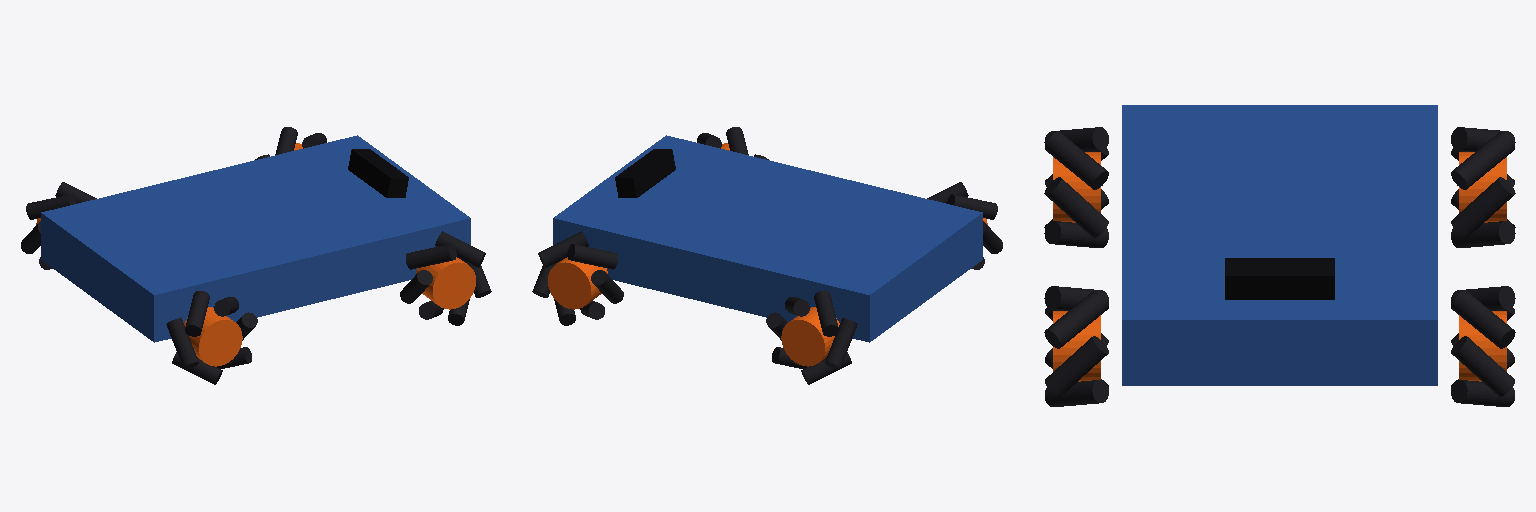
The robot description file, URDF, robot "mecanum_large":
<?xml version="1.0" ?>
<!-- Generated by Robot Studio 1.0.0 from the 'mecanum' template. Software-generated: check masses, dimensions and limits against the real robot. -->
<robot name="mecanum_large">
  <material name="chassis">
    <color rgba="0.2 0.36 0.62 1"/>
  </material>
  <material name="wheel">
    <color rgba="0.15 0.15 0.17 1"/>
  </material>
  <material name="hub">
    <color rgba="0.92 0.42 0.12 1"/>
  </material>
  <material name="caster">
    <color rgba="0.6 0.6 0.62 1"/>
  </material>
  <material name="sensor">
    <color rgba="0.08 0.08 0.09 1"/>
  </material>
  <link name="base_footprint"/>
  <link name="base_link">
    <inertial>
      <origin rpy="0 0 0" xyz="0 0 0.02"/>
      <mass value="3"/>
      <inertia ixx="0.017800000000000003" ixy="0" ixz="0" iyy="0.04499999999999999" iyz="0" izz="0.061"/>
    </inertial>
    <visual>
      <origin rpy="0 0 0" xyz="0 0 0.02"/>
      <geometry>
        <box size="0.42 0.26 0.06"/>
      </geometry>
      <material name="chassis"/>
    </visual>
    <collision>
      <origin rpy="0 0 0" xyz="0 0 0.02"/>
      <geometry>
        <box size="0.42 0.26 0.06"/>
      </geometry>
    </collision>
  </link>
  <joint name="base_joint" type="fixed">
    <parent link="base_footprint"/>
    <child link="base_link"/>
    <origin rpy="0 0 0" xyz="0 0 0.0485"/>
  </joint>
  <link name="front_left_wheel">
    <inertial>
      <origin rpy="0 0 0" xyz="0 0 0"/>
      <mass value="0.15"/>
      <inertia ixx="0.00010820937500000001" ixy="0" ixz="0" iyy="0.00017641875" iyz="0" izz="0.00010820937500000001"/>
    </inertial>
    <visual name="hub">
      <origin rpy="1.5707963267948966 0 0" xyz="0 0 0"/>
      <geometry>
        <cylinder length="0.04" radius="0.0291"/>
      </geometry>
      <material name="hub"/>
    </visual>
    <visual name="roller_0">
      <origin rpy="0.7853981633974483 0 0" xyz="0.0388 0 0"/>
      <geometry>
        <cylinder length="0.0558679893563385" radius="0.0097"/>
      </geometry>
      <material name="wheel"/>
    </visual>
    <visual name="roller_1">
      <origin rpy="0.7853981633974483 -1.0471975511965976 0" xyz="0.019400000000000004 0 0.03360178566683622"/>
      <geometry>
        <cylinder length="0.0558679893563385" radius="0.0097"/>
      </geometry>
      <material name="wheel"/>
    </visual>
    <visual name="roller_2">
      <origin rpy="0.7853981633974483 -2.0943951023931953 0" xyz="-0.019399999999999994 0 0.03360178566683622"/>
      <geometry>
        <cylinder length="0.0558679893563385" radius="0.0097"/>
      </geometry>
      <material name="wheel"/>
    </visual>
    <visual name="roller_3">
      <origin rpy="0.7853981633974483 -3.141592653589793 0" xyz="-0.0388 0 4.7516295806917304e-18"/>
      <geometry>
        <cylinder length="0.0558679893563385" radius="0.0097"/>
      </geometry>
      <material name="wheel"/>
    </visual>
    <visual name="roller_4">
      <origin rpy="0.7853981633974483 -4.1887902047863905 0" xyz="-0.019400000000000018 0 -0.03360178566683621"/>
      <geometry>
        <cylinder length="0.0558679893563385" radius="0.0097"/>
      </geometry>
      <material name="wheel"/>
    </visual>
    <visual name="roller_5">
      <origin rpy="0.7853981633974483 -5.235987755982989 0" xyz="0.019400000000000004 0 -0.03360178566683622"/>
      <geometry>
        <cylinder length="0.0558679893563385" radius="0.0097"/>
      </geometry>
      <material name="wheel"/>
    </visual>
    <collision>
      <origin rpy="1.5707963267948966 0 0" xyz="0 0 0"/>
      <geometry>
        <cylinder length="0.04" radius="0.0485"/>
      </geometry>
    </collision>
  </link>
  <joint name="front_left_wheel_joint" type="continuous">
    <parent link="base_link"/>
    <child link="front_left_wheel"/>
    <origin rpy="0 0 0" xyz="0.155 0.1675 0"/>
    <axis xyz="0 1 0"/>
    <limit effort="2" velocity="20"/>
  </joint>
  <link name="front_right_wheel">
    <inertial>
      <origin rpy="0 0 0" xyz="0 0 0"/>
      <mass value="0.15"/>
      <inertia ixx="0.00010820937500000001" ixy="0" ixz="0" iyy="0.00017641875" iyz="0" izz="0.00010820937500000001"/>
    </inertial>
    <visual name="hub">
      <origin rpy="1.5707963267948966 0 0" xyz="0 0 0"/>
      <geometry>
        <cylinder length="0.04" radius="0.0291"/>
      </geometry>
      <material name="hub"/>
    </visual>
    <visual name="roller_0">
      <origin rpy="-0.7853981633974483 0 0" xyz="0.0388 0 0"/>
      <geometry>
        <cylinder length="0.0558679893563385" radius="0.0097"/>
      </geometry>
      <material name="wheel"/>
    </visual>
    <visual name="roller_1">
      <origin rpy="-0.7853981633974483 -1.0471975511965976 0" xyz="0.019400000000000004 0 0.03360178566683622"/>
      <geometry>
        <cylinder length="0.0558679893563385" radius="0.0097"/>
      </geometry>
      <material name="wheel"/>
    </visual>
    <visual name="roller_2">
      <origin rpy="-0.7853981633974483 -2.0943951023931953 0" xyz="-0.019399999999999994 0 0.03360178566683622"/>
      <geometry>
        <cylinder length="0.0558679893563385" radius="0.0097"/>
      </geometry>
      <material name="wheel"/>
    </visual>
    <visual name="roller_3">
      <origin rpy="-0.7853981633974483 -3.141592653589793 0" xyz="-0.0388 0 4.7516295806917304e-18"/>
      <geometry>
        <cylinder length="0.0558679893563385" radius="0.0097"/>
      </geometry>
      <material name="wheel"/>
    </visual>
    <visual name="roller_4">
      <origin rpy="-0.7853981633974483 -4.1887902047863905 0" xyz="-0.019400000000000018 0 -0.03360178566683621"/>
      <geometry>
        <cylinder length="0.0558679893563385" radius="0.0097"/>
      </geometry>
      <material name="wheel"/>
    </visual>
    <visual name="roller_5">
      <origin rpy="-0.7853981633974483 -5.235987755982989 0" xyz="0.019400000000000004 0 -0.03360178566683622"/>
      <geometry>
        <cylinder length="0.0558679893563385" radius="0.0097"/>
      </geometry>
      <material name="wheel"/>
    </visual>
    <collision>
      <origin rpy="1.5707963267948966 0 0" xyz="0 0 0"/>
      <geometry>
        <cylinder length="0.04" radius="0.0485"/>
      </geometry>
    </collision>
  </link>
  <joint name="front_right_wheel_joint" type="continuous">
    <parent link="base_link"/>
    <child link="front_right_wheel"/>
    <origin rpy="0 0 0" xyz="0.155 -0.1675 0"/>
    <axis xyz="0 1 0"/>
    <limit effort="2" velocity="20"/>
  </joint>
  <link name="rear_left_wheel">
    <inertial>
      <origin rpy="0 0 0" xyz="0 0 0"/>
      <mass value="0.15"/>
      <inertia ixx="0.00010820937500000001" ixy="0" ixz="0" iyy="0.00017641875" iyz="0" izz="0.00010820937500000001"/>
    </inertial>
    <visual name="hub">
      <origin rpy="1.5707963267948966 0 0" xyz="0 0 0"/>
      <geometry>
        <cylinder length="0.04" radius="0.0291"/>
      </geometry>
      <material name="hub"/>
    </visual>
    <visual name="roller_0">
      <origin rpy="-0.7853981633974483 0 0" xyz="0.0388 0 0"/>
      <geometry>
        <cylinder length="0.0558679893563385" radius="0.0097"/>
      </geometry>
      <material name="wheel"/>
    </visual>
    <visual name="roller_1">
      <origin rpy="-0.7853981633974483 -1.0471975511965976 0" xyz="0.019400000000000004 0 0.03360178566683622"/>
      <geometry>
        <cylinder length="0.0558679893563385" radius="0.0097"/>
      </geometry>
      <material name="wheel"/>
    </visual>
    <visual name="roller_2">
      <origin rpy="-0.7853981633974483 -2.0943951023931953 0" xyz="-0.019399999999999994 0 0.03360178566683622"/>
      <geometry>
        <cylinder length="0.0558679893563385" radius="0.0097"/>
      </geometry>
      <material name="wheel"/>
    </visual>
    <visual name="roller_3">
      <origin rpy="-0.7853981633974483 -3.141592653589793 0" xyz="-0.0388 0 4.7516295806917304e-18"/>
      <geometry>
        <cylinder length="0.0558679893563385" radius="0.0097"/>
      </geometry>
      <material name="wheel"/>
    </visual>
    <visual name="roller_4">
      <origin rpy="-0.7853981633974483 -4.1887902047863905 0" xyz="-0.019400000000000018 0 -0.03360178566683621"/>
      <geometry>
        <cylinder length="0.0558679893563385" radius="0.0097"/>
      </geometry>
      <material name="wheel"/>
    </visual>
    <visual name="roller_5">
      <origin rpy="-0.7853981633974483 -5.235987755982989 0" xyz="0.019400000000000004 0 -0.03360178566683622"/>
      <geometry>
        <cylinder length="0.0558679893563385" radius="0.0097"/>
      </geometry>
      <material name="wheel"/>
    </visual>
    <collision>
      <origin rpy="1.5707963267948966 0 0" xyz="0 0 0"/>
      <geometry>
        <cylinder length="0.04" radius="0.0485"/>
      </geometry>
    </collision>
  </link>
  <joint name="rear_left_wheel_joint" type="continuous">
    <parent link="base_link"/>
    <child link="rear_left_wheel"/>
    <origin rpy="0 0 0" xyz="-0.155 0.1675 0"/>
    <axis xyz="0 1 0"/>
    <limit effort="2" velocity="20"/>
  </joint>
  <link name="rear_right_wheel">
    <inertial>
      <origin rpy="0 0 0" xyz="0 0 0"/>
      <mass value="0.15"/>
      <inertia ixx="0.00010820937500000001" ixy="0" ixz="0" iyy="0.00017641875" iyz="0" izz="0.00010820937500000001"/>
    </inertial>
    <visual name="hub">
      <origin rpy="1.5707963267948966 0 0" xyz="0 0 0"/>
      <geometry>
        <cylinder length="0.04" radius="0.0291"/>
      </geometry>
      <material name="hub"/>
    </visual>
    <visual name="roller_0">
      <origin rpy="0.7853981633974483 0 0" xyz="0.0388 0 0"/>
      <geometry>
        <cylinder length="0.0558679893563385" radius="0.0097"/>
      </geometry>
      <material name="wheel"/>
    </visual>
    <visual name="roller_1">
      <origin rpy="0.7853981633974483 -1.0471975511965976 0" xyz="0.019400000000000004 0 0.03360178566683622"/>
      <geometry>
        <cylinder length="0.0558679893563385" radius="0.0097"/>
      </geometry>
      <material name="wheel"/>
    </visual>
    <visual name="roller_2">
      <origin rpy="0.7853981633974483 -2.0943951023931953 0" xyz="-0.019399999999999994 0 0.03360178566683622"/>
      <geometry>
        <cylinder length="0.0558679893563385" radius="0.0097"/>
      </geometry>
      <material name="wheel"/>
    </visual>
    <visual name="roller_3">
      <origin rpy="0.7853981633974483 -3.141592653589793 0" xyz="-0.0388 0 4.7516295806917304e-18"/>
      <geometry>
        <cylinder length="0.0558679893563385" radius="0.0097"/>
      </geometry>
      <material name="wheel"/>
    </visual>
    <visual name="roller_4">
      <origin rpy="0.7853981633974483 -4.1887902047863905 0" xyz="-0.019400000000000018 0 -0.03360178566683621"/>
      <geometry>
        <cylinder length="0.0558679893563385" radius="0.0097"/>
      </geometry>
      <material name="wheel"/>
    </visual>
    <visual name="roller_5">
      <origin rpy="0.7853981633974483 -5.235987755982989 0" xyz="0.019400000000000004 0 -0.03360178566683622"/>
      <geometry>
        <cylinder length="0.0558679893563385" radius="0.0097"/>
      </geometry>
      <material name="wheel"/>
    </visual>
    <collision>
      <origin rpy="1.5707963267948966 0 0" xyz="0 0 0"/>
      <geometry>
        <cylinder length="0.04" radius="0.0485"/>
      </geometry>
    </collision>
  </link>
  <joint name="rear_right_wheel_joint" type="continuous">
    <parent link="base_link"/>
    <child link="rear_right_wheel"/>
    <origin rpy="0 0 0" xyz="-0.155 -0.1675 0"/>
    <axis xyz="0 1 0"/>
    <limit effort="2" velocity="20"/>
  </joint>
  <link name="imu_link">
    <inertial>
      <origin rpy="0 0 0" xyz="0 0 0"/>
      <mass value="0.01"/>
      <inertia ixx="3.5416666666666673e-7" ixy="0" ixz="0" iyy="3.5416666666666673e-7" iyz="0" izz="6.666666666666668e-7"/>
    </inertial>
    <visual>
      <origin rpy="0 0 0" xyz="0 0 0"/>
      <geometry>
        <box size="0.02 0.02 0.005"/>
      </geometry>
      <material name="sensor"/>
    </visual>
    <collision>
      <origin rpy="0 0 0" xyz="0 0 0"/>
      <geometry>
        <box size="0.02 0.02 0.005"/>
      </geometry>
    </collision>
  </link>
  <joint name="imu_joint" type="fixed">
    <parent link="base_link"/>
    <child link="imu_link"/>
    <origin rpy="0 0 0" xyz="0 0 0.02"/>
  </joint>
  <link name="camera_link">
    <inertial>
      <origin rpy="0 0 0" xyz="0 0 0"/>
      <mass value="0.06"/>
      <inertia ixx="0.000043624999999999997" ixy="0" ixz="0" iyy="0.00000625" iyz="0" izz="0.000043624999999999997"/>
    </inertial>
    <visual>
      <origin rpy="0 0 0" xyz="0 0 0"/>
      <geometry>
        <box size="0.025 0.09 0.025"/>
      </geometry>
      <material name="sensor"/>
    </visual>
    <collision>
      <origin rpy="0 0 0" xyz="0 0 0"/>
      <geometry>
        <box size="0.025 0.09 0.025"/>
      </geometry>
    </collision>
  </link>
  <joint name="camera_joint" type="fixed">
    <parent link="base_link"/>
    <child link="camera_link"/>
    <origin rpy="0 0.2 0" xyz="0.1625 0 0.065"/>
  </joint>
  <link name="camera_optical_frame"/>
  <joint name="camera_optical_joint" type="fixed">
    <parent link="camera_link"/>
    <child link="camera_optical_frame"/>
    <origin rpy="-1.5707963267948966 0 -1.5707963267948966" xyz="0 0 0"/>
  </joint>
  <link name="depth_camera_link">
    <inertial>
      <origin rpy="0 0 0" xyz="0 0 0"/>
      <mass value="0.1"/>
      <inertia ixx="0.0001275" ixy="0" ixz="0" iyy="0.000015" iyz="0" izz="0.0001275"/>
    </inertial>
    <visual>
      <origin rpy="0 0 0" xyz="0 0 0"/>
      <geometry>
        <box size="0.03 0.12 0.03"/>
      </geometry>
      <material name="sensor"/>
    </visual>
    <collision>
      <origin rpy="0 0 0" xyz="0 0 0"/>
      <geometry>
        <box size="0.03 0.12 0.03"/>
      </geometry>
    </collision>
  </link>
  <joint name="depth_camera_joint" type="fixed">
    <parent link="base_link"/>
    <child link="depth_camera_link"/>
    <origin rpy="0 0 0" xyz="0.165 0 0.03"/>
  </joint>
  <link name="depth_camera_optical_frame"/>
  <joint name="depth_camera_optical_joint" type="fixed">
    <parent link="depth_camera_link"/>
    <child link="depth_camera_optical_frame"/>
    <origin rpy="-1.5707963267948966 0 -1.5707963267948966" xyz="0 0 0"/>
  </joint>
</robot>

--- What the picture shows (computed from the rendered views, not written in the file) ---
3 views of the same robot in one strip: view 1: azimuth 30°, elevation 25°; view 2: azimuth 150°, elevation 25°; view 3: azimuth 270°, elevation 25° (orthographic).
Robot: mecanum_large — 11 links, 10 joints (4 continuous, 6 fixed); root link base_footprint; default pose: all joints at 0.
Links seen in each view (by area): view 1: base_link, front_right_wheel, rear_right_wheel, camera_link, rear_left_wheel, front_left_wheel; view 2: base_link, front_left_wheel, rear_left_wheel, camera_link, rear_right_wheel, front_right_wheel; view 3: base_link, front_left_wheel, front_right_wheel, rear_left_wheel, rear_right_wheel, camera_link.
Link boxes in pixels (x1,y1,x2,y2): base_link: [41, 135, 470, 342]; front_right_wheel: [400, 231, 491, 325]; rear_right_wheel: [166, 291, 257, 384]; camera_link: [348, 149, 408, 197]; rear_left_wheel: [21, 182, 96, 269]; front_left_wheel: [255, 127, 326, 159]; base_link: [553, 135, 982, 342]; front_left_wheel: [532, 231, 623, 325]; rear_left_wheel: [766, 291, 857, 384]; camera_link: [615, 149, 675, 197]; rear_right_wheel: [927, 182, 1002, 269]; front_right_wheel: [697, 127, 768, 159]; base_link: [1122, 105, 1437, 385]; front_left_wheel: [1451, 286, 1515, 406]; front_right_wheel: [1044, 286, 1108, 406]; rear_left_wheel: [1451, 127, 1515, 247]; rear_right_wheel: [1044, 127, 1108, 247]; camera_link: [1225, 258, 1334, 299].
Size in the robot's own frame: 0.42 by 0.3882 by 0.1323 metres.
Geometry: primitives only (box / cylinder / sphere), no mesh files.
